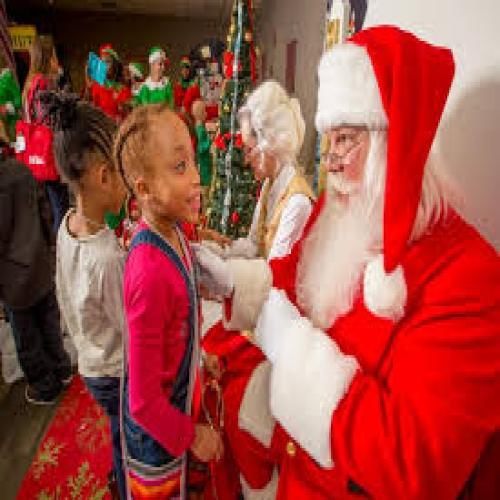Santa: (193, 25, 500, 500)
